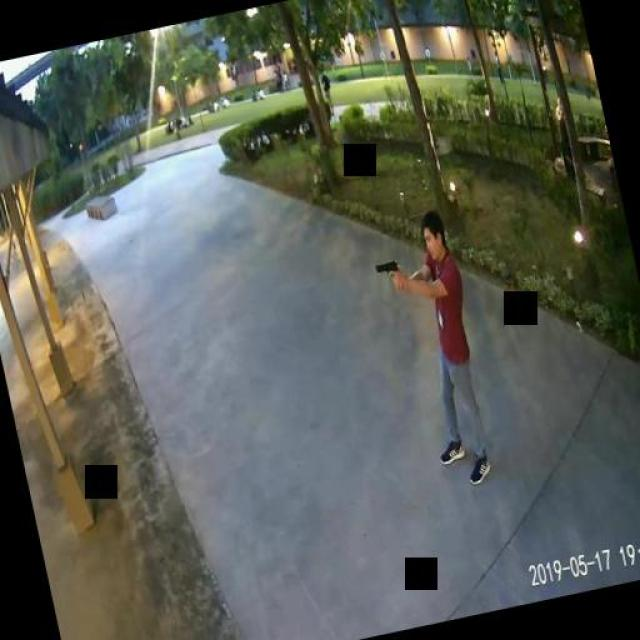gun: (371, 258, 400, 288)
